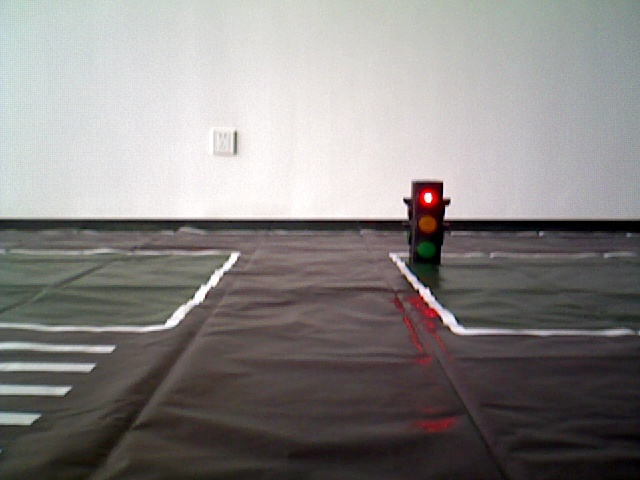red: (413, 184, 440, 262)
